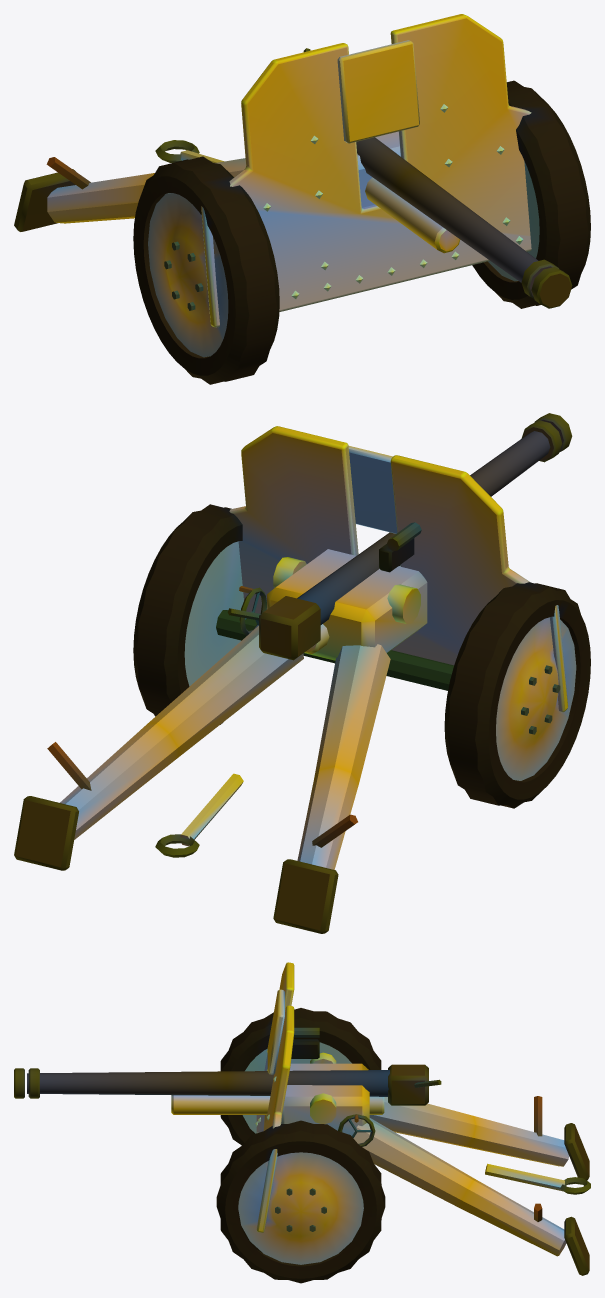
File: artillery.glb
3 views of the same model, one above another, from view 1: azimuth 30°, elevation 25°; view 2: azimuth 150°, elevation 25°; view 3: azimuth 270°, elevation 25° (orthographic). The views are drawn at different scales.
Visible parts, largest first — view 1: carriage, barrel; view 2: carriage, barrel; view 3: carriage, barrel.
Part boxes in pixels (x1,y1,x2,y2): carriage: (14, 14, 590, 384); barrel: (303, 48, 572, 308); carriage: (14, 426, 590, 933); barrel: (227, 413, 572, 660); carriage: (216, 962, 590, 1283); barrel: (14, 1064, 441, 1114).
Bounding box in the file's own units: 0.169 × 0.1344 × 0.3116.
